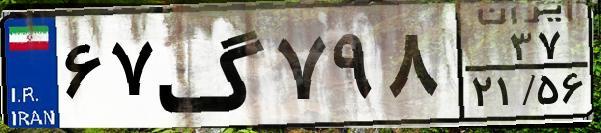1: (495, 70, 520, 125)
2: (470, 70, 495, 125)
3: (508, 27, 537, 80)
5: (535, 70, 560, 125)
6: (57, 26, 110, 100), (560, 70, 590, 125)
7: (270, 28, 330, 110), (110, 28, 156, 98), (537, 27, 568, 80)
8: (385, 28, 445, 110)
9: (330, 28, 385, 110)
گ: (156, 12, 270, 120)
